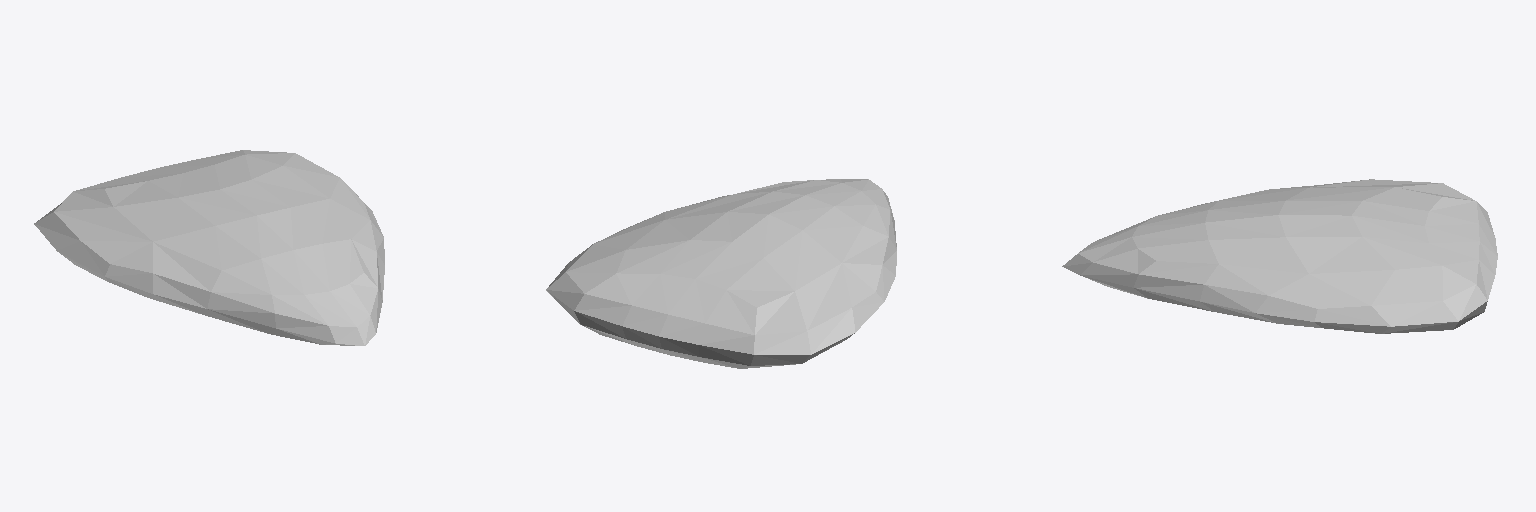
File: entourage-shield.obj
3 views of the same model, side by side, from view 1: azimuth 30°, elevation 25°; view 2: azimuth 150°, elevation 25°; view 3: azimuth 270°, elevation 25° (orthographic).
Visible parts, largest first — view 1: octotoad3; view 2: octotoad3; view 3: octotoad3.
Boxes of the visible parts, x1=… form: octotoad3: x1=34, y1=150, x2=384, y2=345; octotoad3: x1=546, y1=179, x2=896, y2=368; octotoad3: x1=1062, y1=179, x2=1497, y2=333.
Bounding box in the file's own units: 12.16 × 3.33 × 16.01.